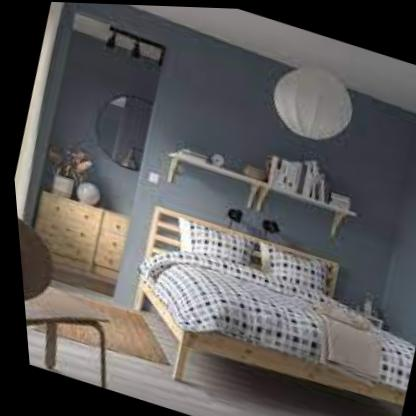Bed: (96, 189, 416, 416)
